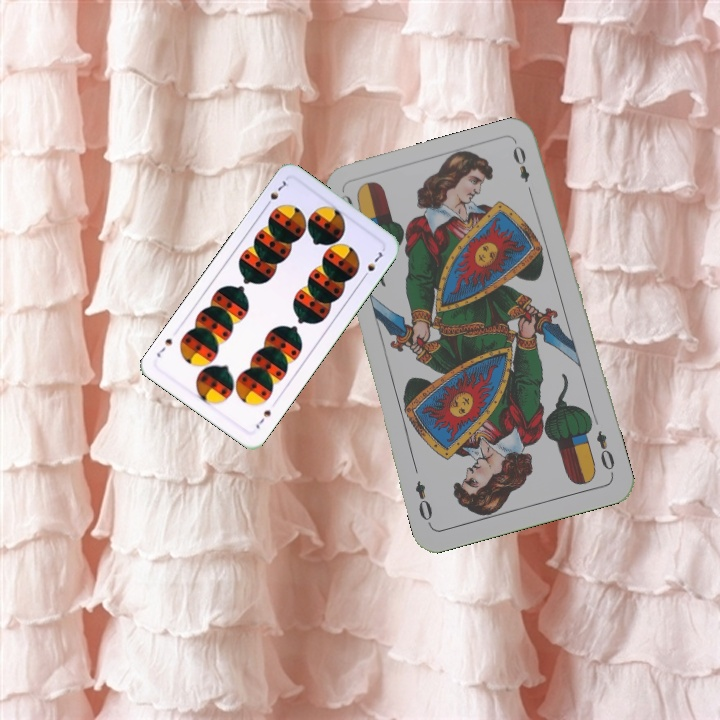EO: (592, 426, 618, 478)
S7: (261, 176, 289, 210), (252, 406, 274, 431)
